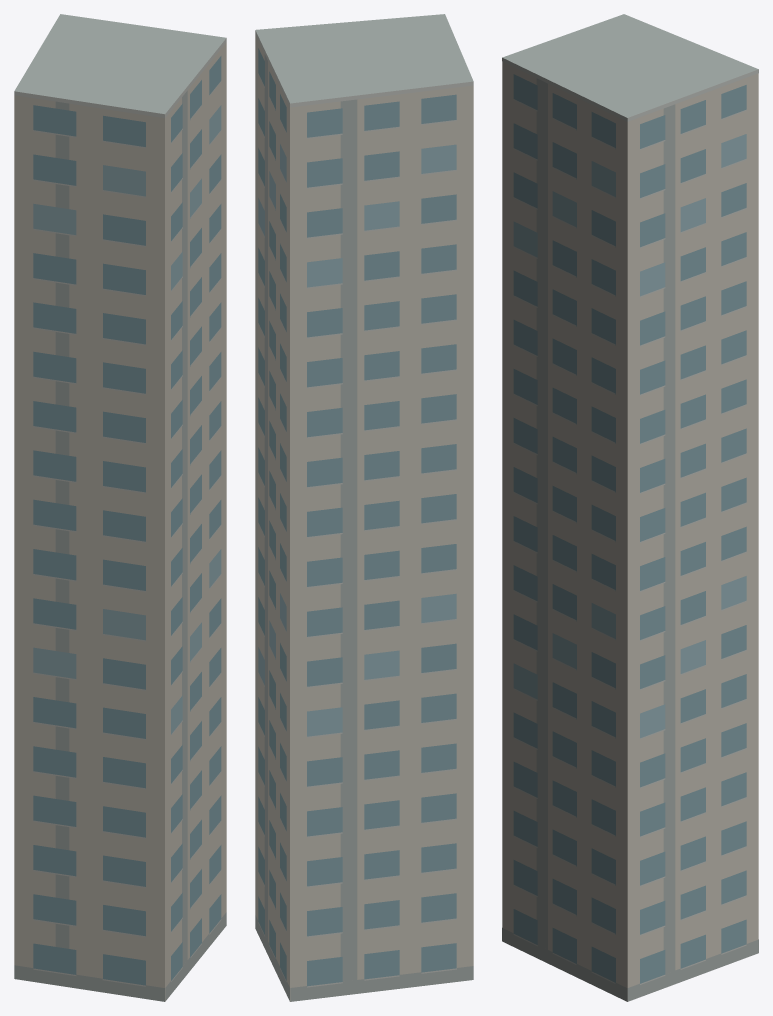
File: survey-upis-32721869.glb
3 renders of one model, left to right at view 1: azimuth 30°, elevation 25°; view 2: azimuth 150°, elevation 25°; view 3: azimuth 270°, elevation 25°, orthographic.
Parts seen in each view (by area): view 1: survey-upis-32721869.tmp; view 2: survey-upis-32721869.tmp; view 3: survey-upis-32721869.tmp.
Part boxes in pixels (<box>): survey-upis-32721869.tmp: <box>14,14,226,1001</box>; survey-upis-32721869.tmp: <box>255,14,473,1001</box>; survey-upis-32721869.tmp: <box>502,14,758,1001</box>.
Size of the model in its own units: 13.87 by 54.9 by 14.46.
